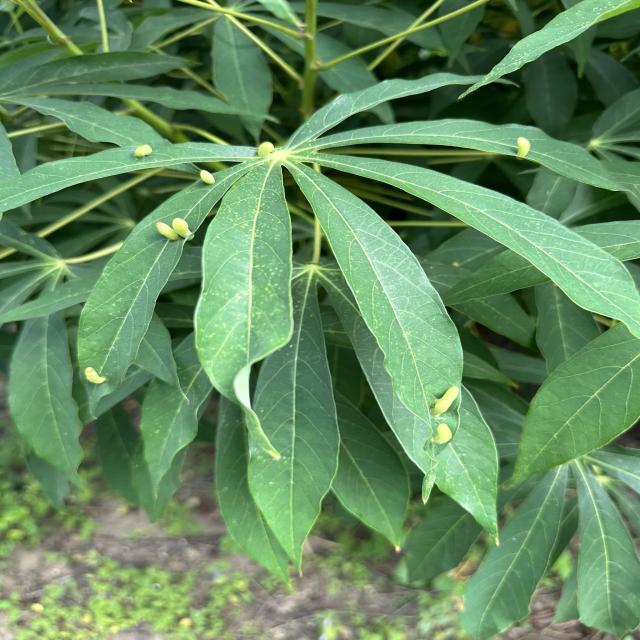Mosca: (424, 375, 459, 455), (148, 216, 201, 247), (245, 130, 283, 160), (78, 363, 111, 394), (514, 131, 543, 162), (186, 158, 222, 182), (124, 138, 156, 159), (446, 256, 467, 274)
